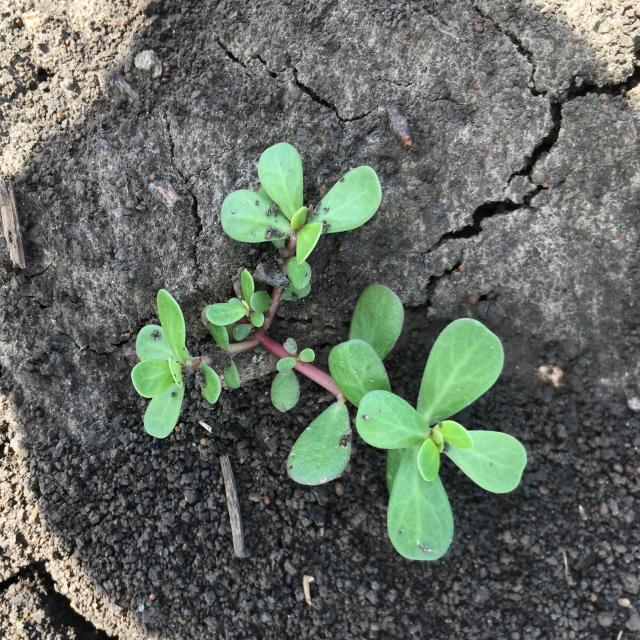Purslane: (131, 143, 527, 562)
